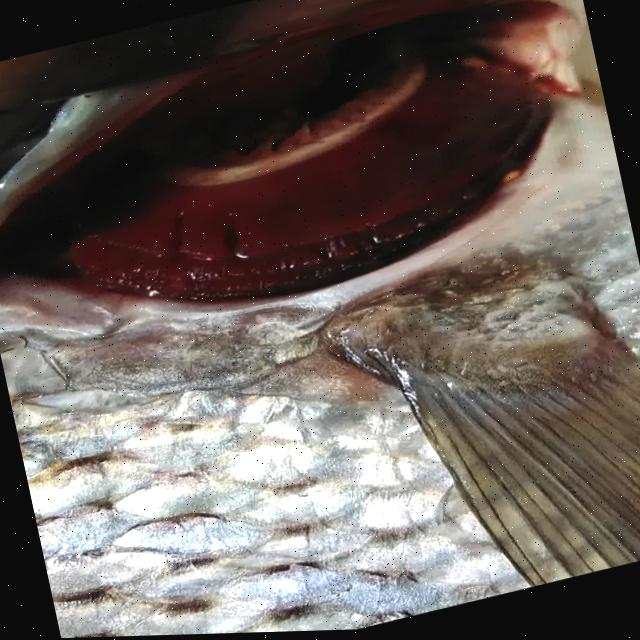Fresh: (21, 0, 628, 348)
